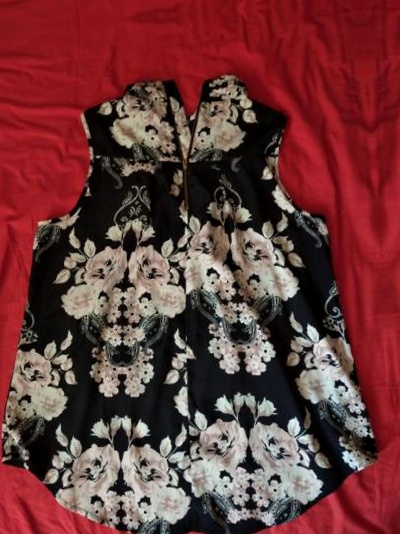Blouse: (0, 56, 389, 534), (381, 19, 400, 523)
